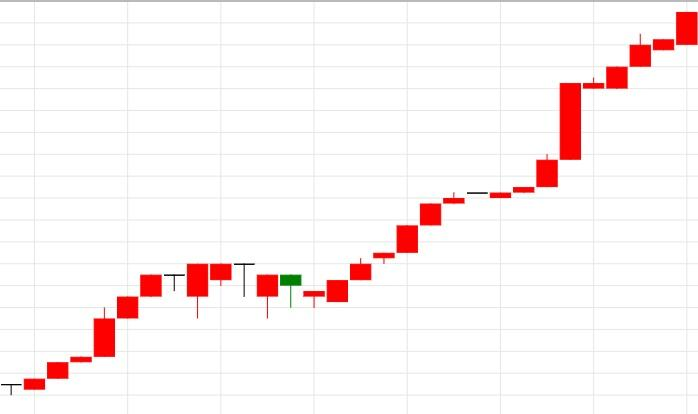three_white_soldiers_rise: (186, 251, 396, 319)
